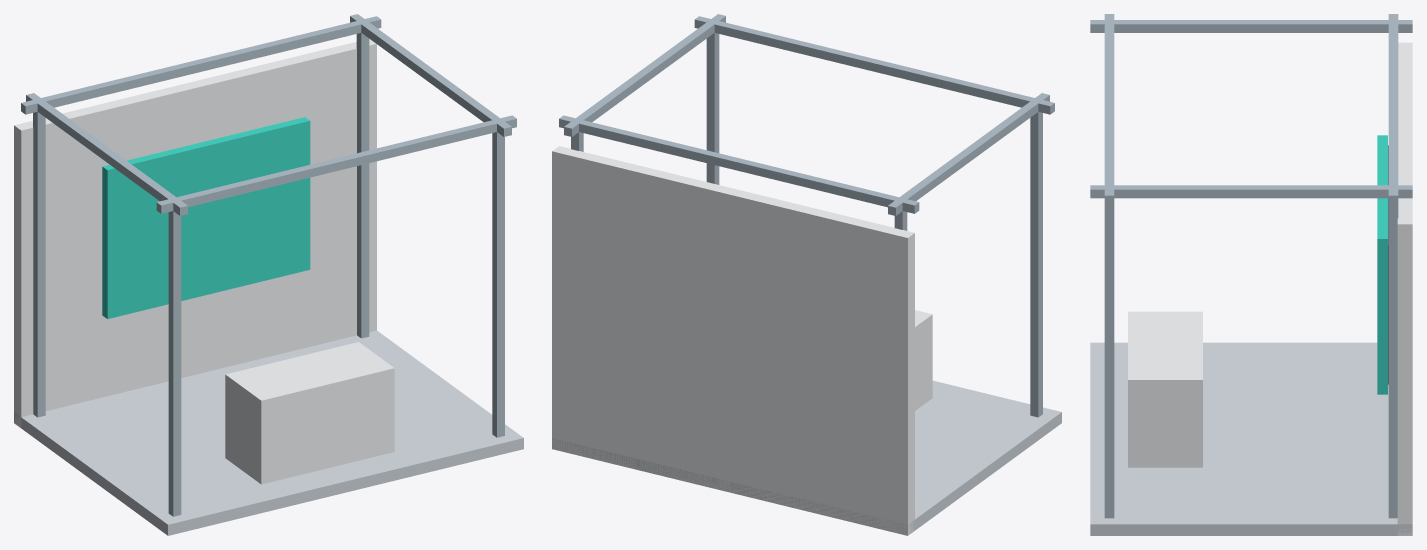
3 views of the same model, side by side, from view 1: azimuth 30°, elevation 25°; view 2: azimuth 150°, elevation 25°; view 3: azimuth 270°, elevation 25° (orthographic). The views are drawn at different scales.
Visible parts, largest first — view 1: Exhibition Booth Concept; view 2: Exhibition Booth Concept; view 3: Exhibition Booth Concept.
Part boxes in pixels (box(x1,y1,x2,y2)): Exhibition Booth Concept: box(14, 14, 523, 535); Exhibition Booth Concept: box(552, 14, 1061, 535); Exhibition Booth Concept: box(1090, 14, 1412, 535).
Bounding box in the file's own units: 4 × 3.49 × 3.
